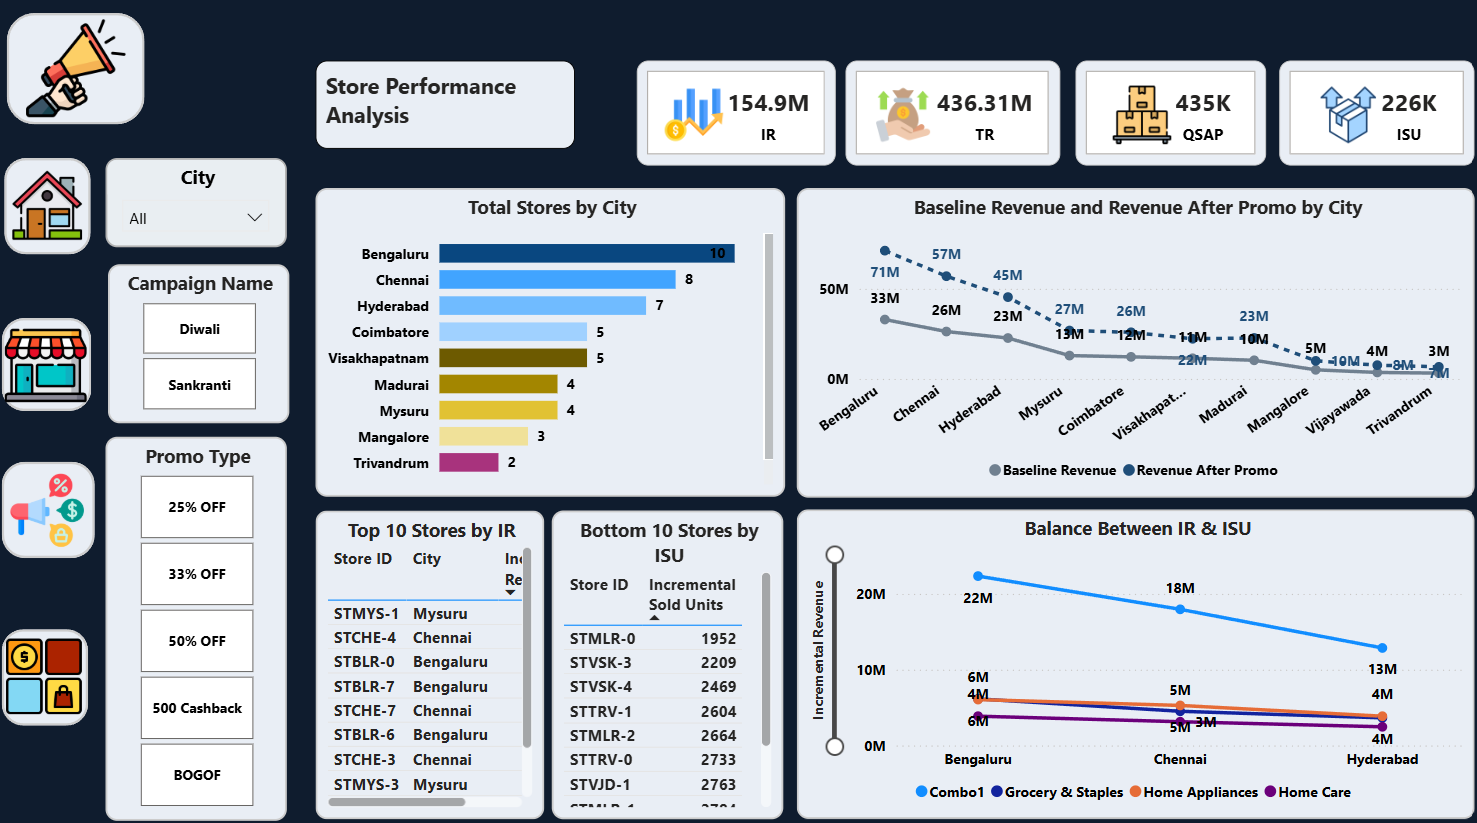

The page's visual inventory and layout, read from the dashboard file:
{"tool":"powerbi","page":{"name":"Store Performance Analysis","canvas":[1280,720],"ordinal":1},"visuals":[{"type":"shape","box":[11.4,17.1,118.6,95.7],"z":0,"group":"g1"},{"type":"cardVisual","fields":{"Data":["Project Measures.Incremental Revenue"]},"box":[553.8,57.9,171.3,90.5],"z":0},{"type":"cardVisual","fields":{"Data":["Project Measures.Quantity Sold After Promo"]},"box":[931.4,57.9,164.1,90.5],"z":1000},{"type":"cardVisual","fields":{"Data":["Project Measures.Incremental Sold Units"]},"box":[1106.3,57.9,168.9,90.5],"z":2000},{"type":"cardVisual","fields":{"Data":["Project Measures.Total Revenue"]},"box":[733.5,57.9,184.6,90.5],"z":3000},{"type":"barChart","title":"Total Stores by City","fields":{"Y":["CountNonNull(dim_stores.store_id)"],"Category":["dim_stores.city"]},"box":[277.5,167.7,404.2,265.4],"z":4000},{"type":"lineChart","title":"Baseline Revenue and Revenue After Promo by City","fields":{"Category":["dim_stores.city"],"Y":["Project Measures.Revenue Before Promo","Project Measures.Revenue After Promo"]},"box":[691.3,167.7,583.9,266.6],"z":5000},{"type":"tableEx","title":"Top 10 Stores by IR","fields":{"Values":["dim_stores.store_id","dim_stores.city","Project Measures.Incremental Revenue"]},"box":[277.5,445.2,196.6,265.4],"z":6000},{"type":"tableEx","title":"Bottom 10 Stores by ISU","fields":{"Values":["dim_stores.store_id","Project Measures.Incremental Sold Units"]},"box":[480.2,445.2,199.1,265.4],"z":7000},{"type":"lineChart","title":"Balance Between IR & ISU","fields":{"Category":["dim_stores.city"],"Y":["Project Measures.Incremental Revenue"],"Series":["dim_products.category"]},"box":[691.3,444,583.9,266.6],"z":8000},{"type":"slicer","title":"Promo Type","fields":{"Values":["fact_events.promo_type"]},"box":[97.1,381.4,155.7,330],"z":9000},{"type":"slicer","title":"Campaign Name","fields":{"Values":["dim_campaign.campaign_name"]},"box":[98.6,232.9,155.7,137.1],"z":10000},{"type":"slicer","title":"City","fields":{"Values":["dim_stores.city"]},"box":[97.1,141.4,155.7,77.1],"z":11000},{"type":"image","box":[20.4,17.1,101.6,95.7],"z":12000,"group":"g1"},{"type":"textbox","box":[277.1,58.6,222.9,75.7],"z":12000},{"type":"shape","box":[7.1,547.1,74.3,82.9],"z":13000},{"type":"shape","box":[7.1,402.9,80,82.9],"z":14000},{"type":"shape","box":[7.1,280,77.1,80],"z":15000},{"type":"image","box":[5.7,280,80,81.4],"z":16000},{"type":"image","box":[8.6,408.6,75.7,72.9],"z":17000},{"type":"image","box":[5.7,550,77.1,77.1],"z":18000},{"type":"shape","box":[10,141.4,74.3,82.9],"z":19000},{"type":"image","box":[11.4,145.7,70,72.9],"z":20000},{"type":"group","id":"g1","title":"Group 1","box":[11.4,17.1,118.6,95.7],"z":21000}]}

Visuals, with their boxes in screenshot pixels (x1, y1, x2, y2), scaled from the page's 1280x720 canvas onto the 1477x823 screenshot:
shape: l=13, t=20, r=150, b=129
cardVisual - Project Measures.Incremental Revenue: l=639, t=66, r=837, b=170
cardVisual - Project Measures.Quantity Sold After Promo: l=1075, t=66, r=1264, b=170
cardVisual - Project Measures.Incremental Sold Units: l=1277, t=66, r=1471, b=170
cardVisual - Project Measures.Total Revenue: l=846, t=66, r=1059, b=170
"Total Stores by City" barChart: l=320, t=192, r=787, b=495
"Baseline Revenue and Revenue After Promo by City" lineChart: l=798, t=192, r=1471, b=496
"Top 10 Stores by IR" tableEx: l=320, t=509, r=547, b=812
"Bottom 10 Stores by ISU" tableEx: l=554, t=509, r=784, b=812
"Balance Between IR & ISU" lineChart: l=798, t=508, r=1471, b=812
"Promo Type" slicer: l=112, t=436, r=292, b=813
"Campaign Name" slicer: l=114, t=266, r=293, b=423
"City" slicer: l=112, t=162, r=292, b=250
image: l=24, t=20, r=141, b=129
textbox: l=320, t=67, r=577, b=154
shape: l=8, t=625, r=94, b=720
shape: l=8, t=461, r=101, b=555
shape: l=8, t=320, r=97, b=412
image: l=7, t=320, r=99, b=413
image: l=10, t=467, r=97, b=550
image: l=7, t=629, r=96, b=717
shape: l=12, t=162, r=97, b=256
image: l=13, t=167, r=94, b=250
"Group 1" group: l=13, t=20, r=150, b=129
